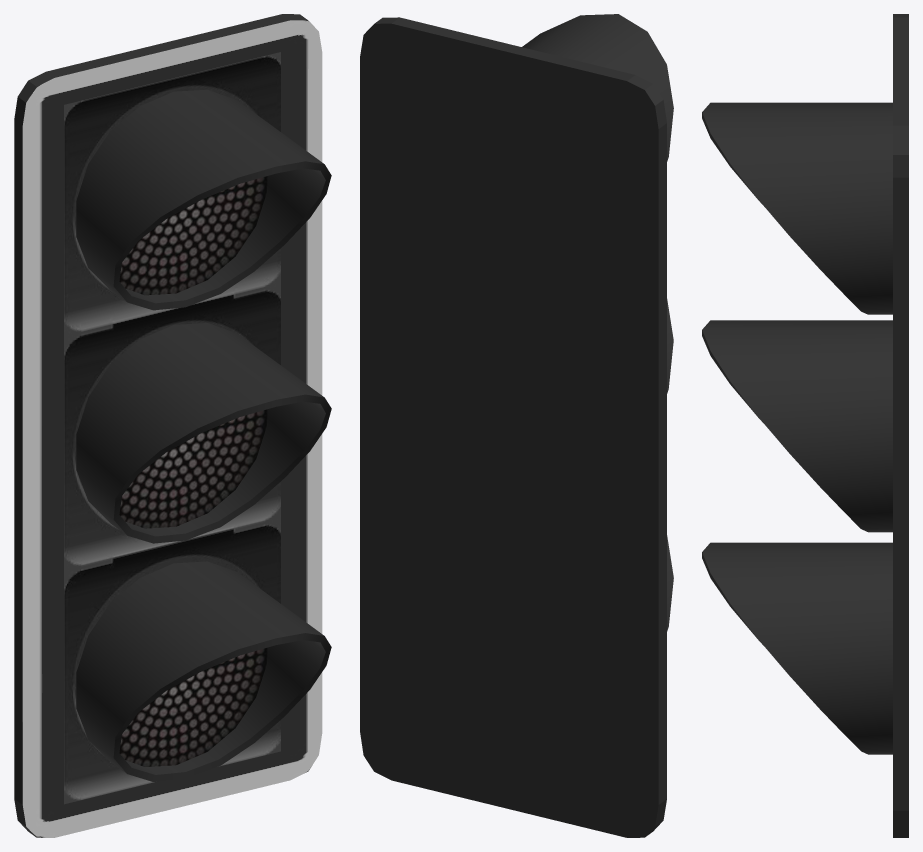
File: signlight001.gltf
The picture shows the model from 3 angles, left to right: view 1: azimuth 30°, elevation 25°; view 2: azimuth 150°, elevation 25°; view 3: azimuth 270°, elevation 25°; orthographic projection. The views are drawn at different scales.
Visible parts, largest first — view 1: Box451, Shang, Zhong, Xia; view 2: Box451; view 3: Box451.
Boxes of the visible parts, x1,y1,x2,y2 form: Box451: (14,14,331,837); Shang: (119,176,267,295); Zhong: (119,409,267,528); Xia: (119,648,267,766); Box451: (360,14,673,837); Box451: (702,14,908,837).
Bounding box in the file's own units: 0.2643 × 0.6403 × 0.1693.
5 materials, 5 textured.
